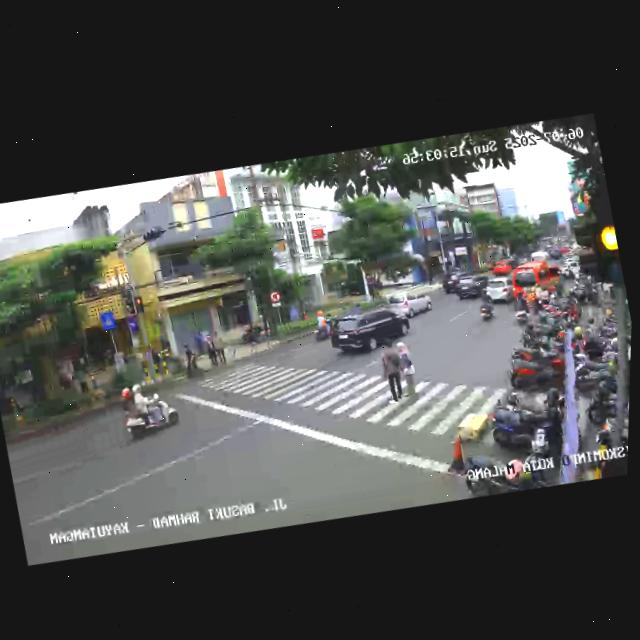car: (323, 297, 413, 363), (509, 255, 567, 310), (386, 285, 435, 323), (452, 271, 493, 305), (481, 274, 516, 307), (439, 267, 475, 297), (490, 259, 513, 279)
motorcycle: (115, 379, 184, 449), (508, 288, 533, 330), (473, 287, 497, 323), (308, 308, 332, 343)
person: (370, 335, 408, 408), (389, 336, 422, 403), (212, 329, 229, 367), (204, 333, 219, 369)
